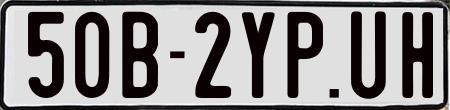0: (73, 11, 110, 98)
2: (193, 10, 235, 102)
5: (25, 11, 66, 100)
B: (121, 11, 160, 103)
H: (400, 10, 434, 99)
P: (287, 11, 325, 98)
U: (351, 11, 391, 105)
Y: (239, 11, 275, 98)
